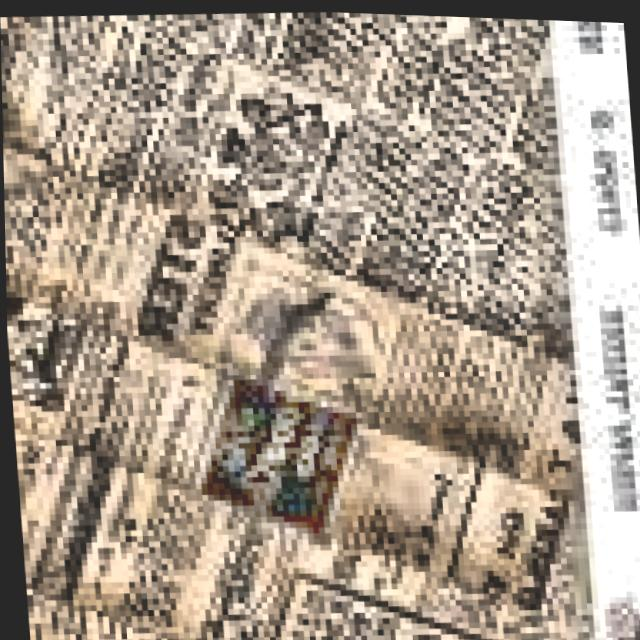paper: (0, 9, 640, 640)
